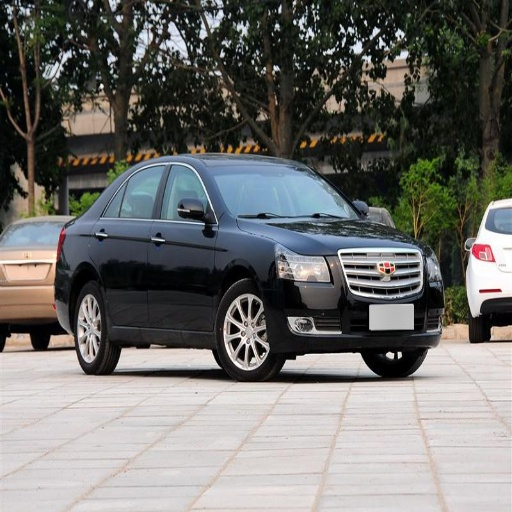back_right_door: (93, 164, 166, 330)
front_bumper: (279, 250, 441, 348)
front_right_door: (148, 163, 217, 333)
front_right_light: (277, 250, 331, 282)
